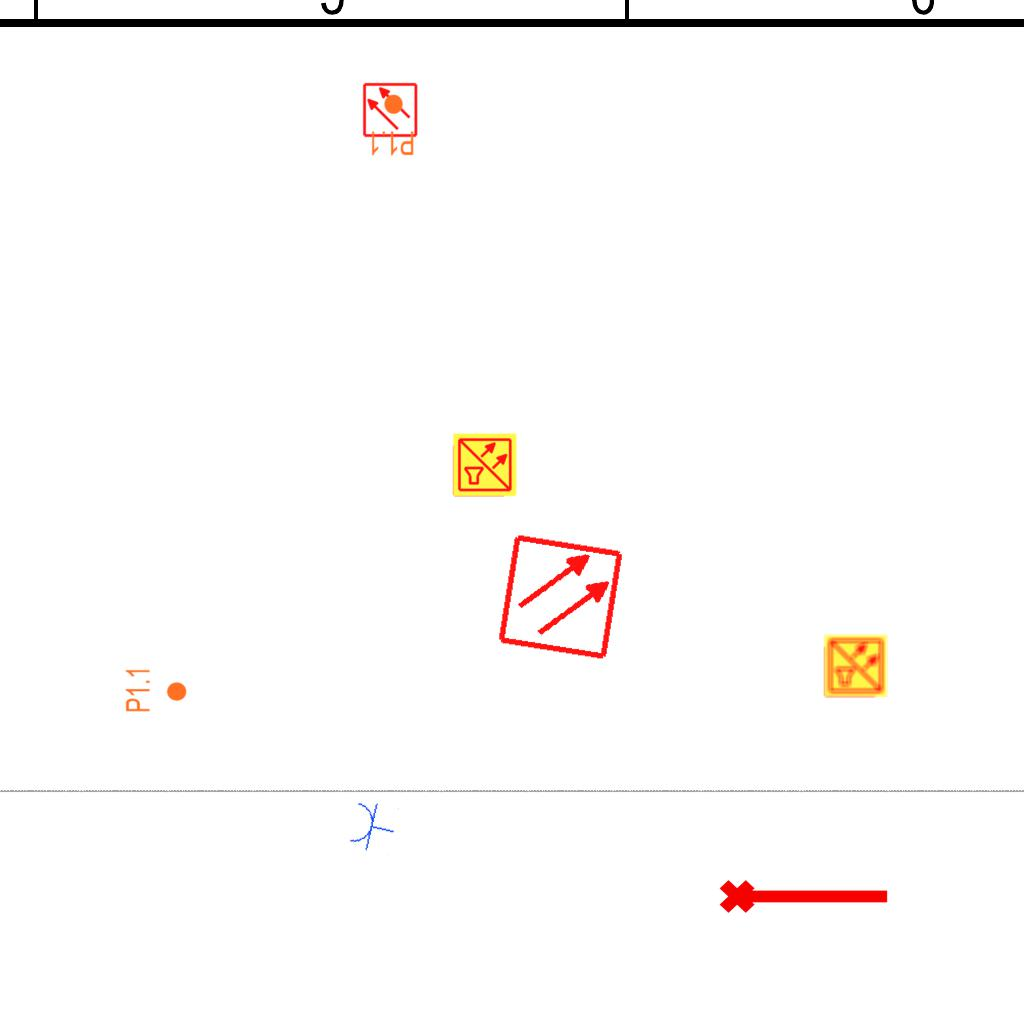ASR_Ansaugoeffnung: (717, 871, 893, 917)
Downlight_LED_Einbauleuchten_Flur: (124, 667, 188, 713), (369, 93, 415, 157)
OKW_Multisensormelder_(Kombination_optischer_Rauch-Kahlenmonoxid_Waerme-Melder): (823, 633, 889, 699), (452, 432, 518, 498)
RMO_Rauchmelder_optischer: (495, 531, 626, 662), (362, 82, 418, 138)
Schukosteckdose_einfach: (346, 797, 400, 856)
